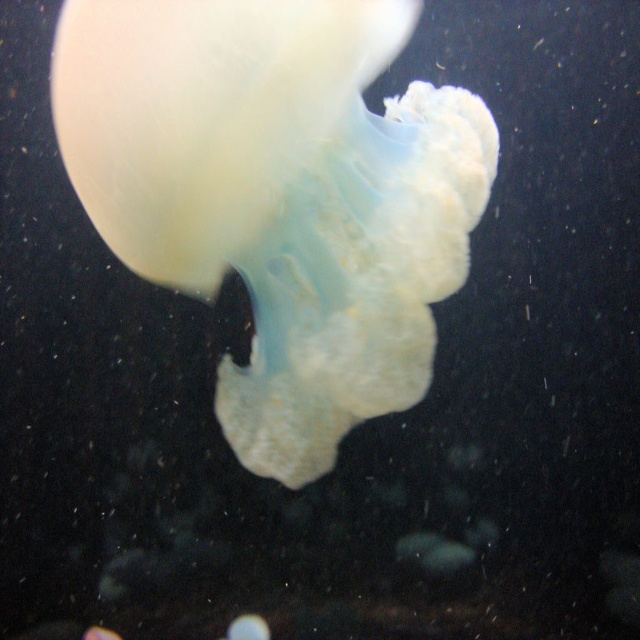Jellyfish: (47, 4, 500, 488)
